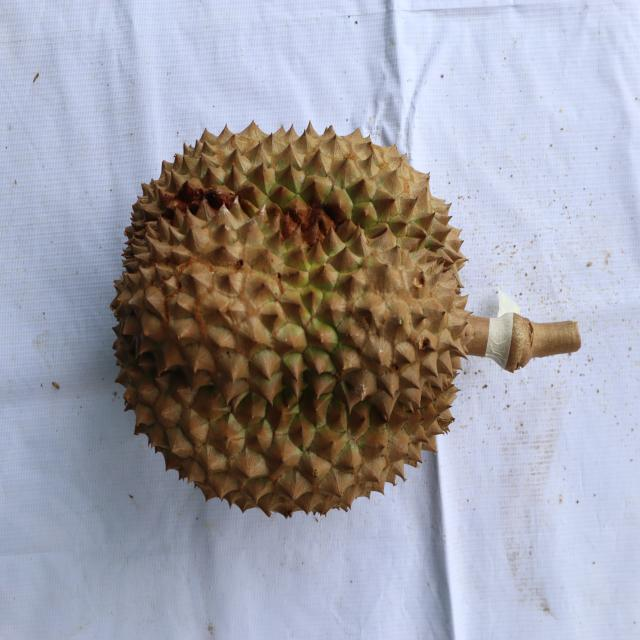mature: (112, 120, 472, 519)
